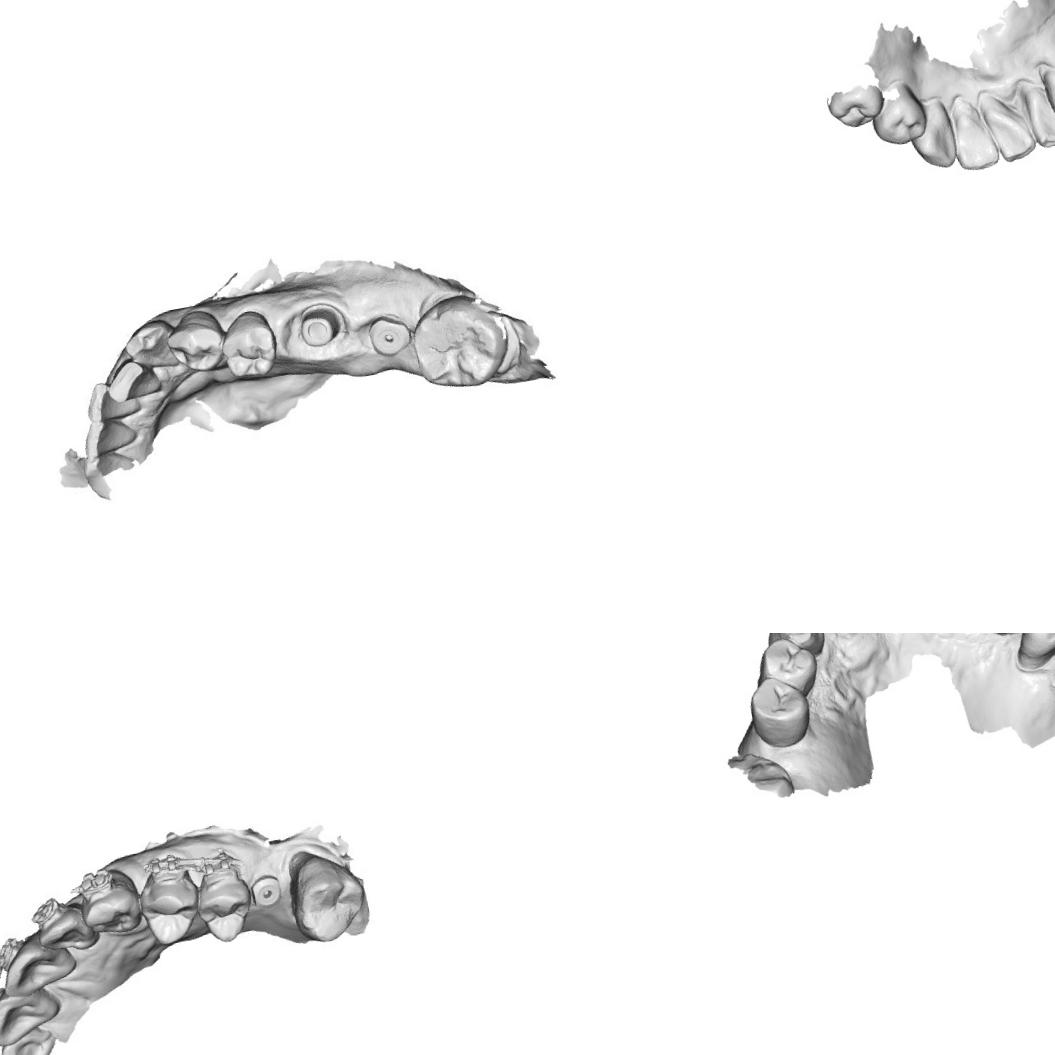abutment: (292, 296, 348, 354)
canine: (76, 876, 148, 942), (118, 315, 182, 381), (907, 102, 960, 172), (759, 633, 829, 661)
implant: (360, 304, 416, 362), (249, 866, 285, 912)
incisor: (0, 931, 79, 999), (0, 984, 68, 1050), (32, 902, 102, 963), (95, 354, 170, 408), (78, 376, 147, 432), (78, 413, 150, 466), (984, 101, 1038, 168), (949, 107, 1001, 174), (1023, 79, 1055, 151), (0, 1022, 61, 1055)
molar: (402, 288, 516, 399), (278, 844, 372, 949)
premolar: (187, 858, 257, 948), (743, 670, 817, 754), (131, 860, 200, 948), (162, 303, 234, 382), (747, 633, 822, 703), (218, 309, 278, 373), (867, 89, 931, 149), (820, 79, 888, 134), (1010, 633, 1055, 663)
